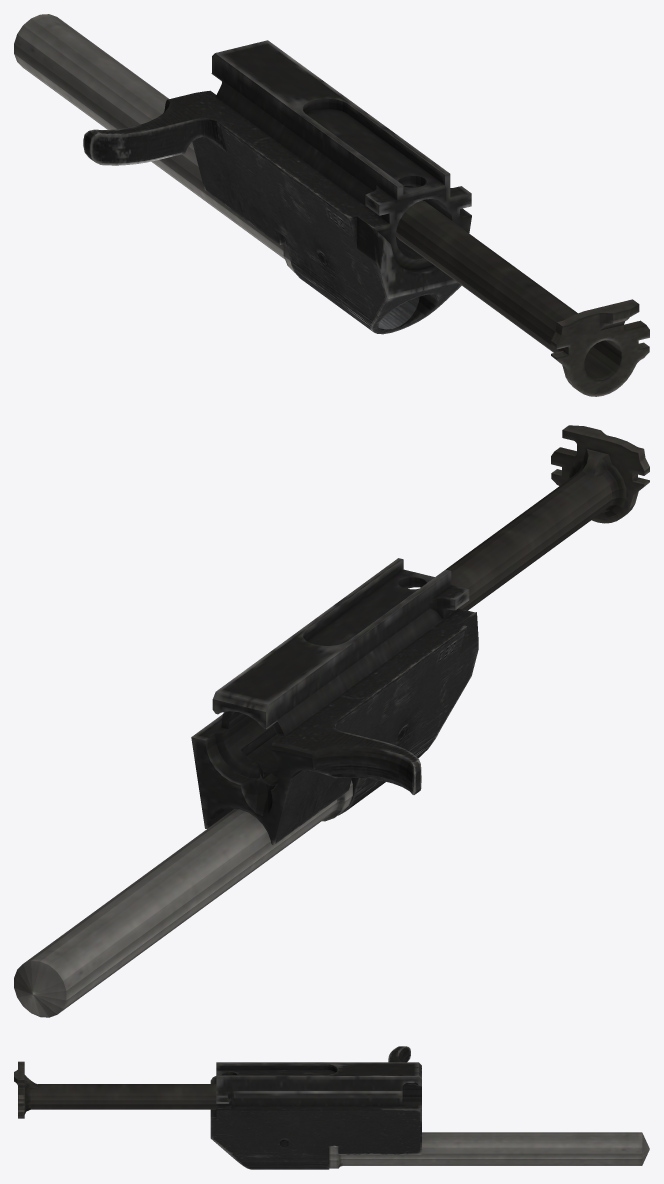
The picture shows the model from 3 angles, top to bottom: view 1: azimuth 30°, elevation 25°; view 2: azimuth 150°, elevation 25°; view 3: azimuth 270°, elevation 25°; orthographic projection. The views are drawn at different scales.
Visible parts, largest first — view 1: TW_57c44b372459772d2b39b8ce_PZ_Import; view 2: TW_57c44b372459772d2b39b8ce_PZ_Import; view 3: TW_57c44b372459772d2b39b8ce_PZ_Import.
Boxes of the visible parts, box(x1,y1,x2,y2) form: TW_57c44b372459772d2b39b8ce_PZ_Import: box(14, 14, 649, 396); TW_57c44b372459772d2b39b8ce_PZ_Import: box(14, 425, 649, 1017); TW_57c44b372459772d2b39b8ce_PZ_Import: box(14, 1046, 649, 1169).
Bounding box in the file's own units: 0.0288 × 0.1343 × 0.0229.
1 material, 1 textured.
